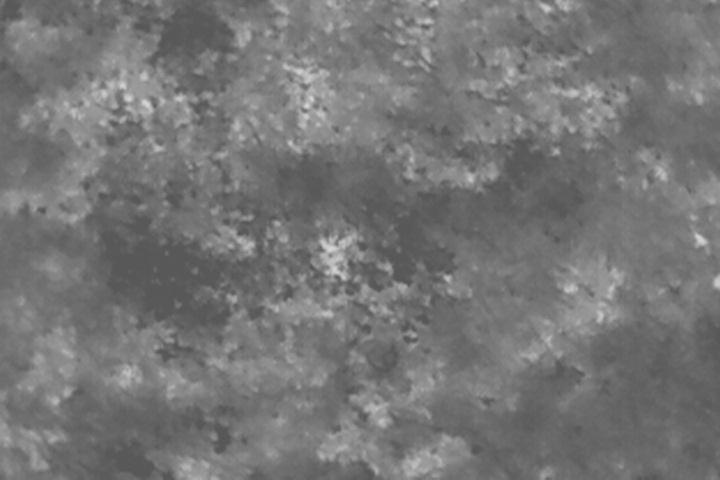landmine: (316, 235, 350, 270)
